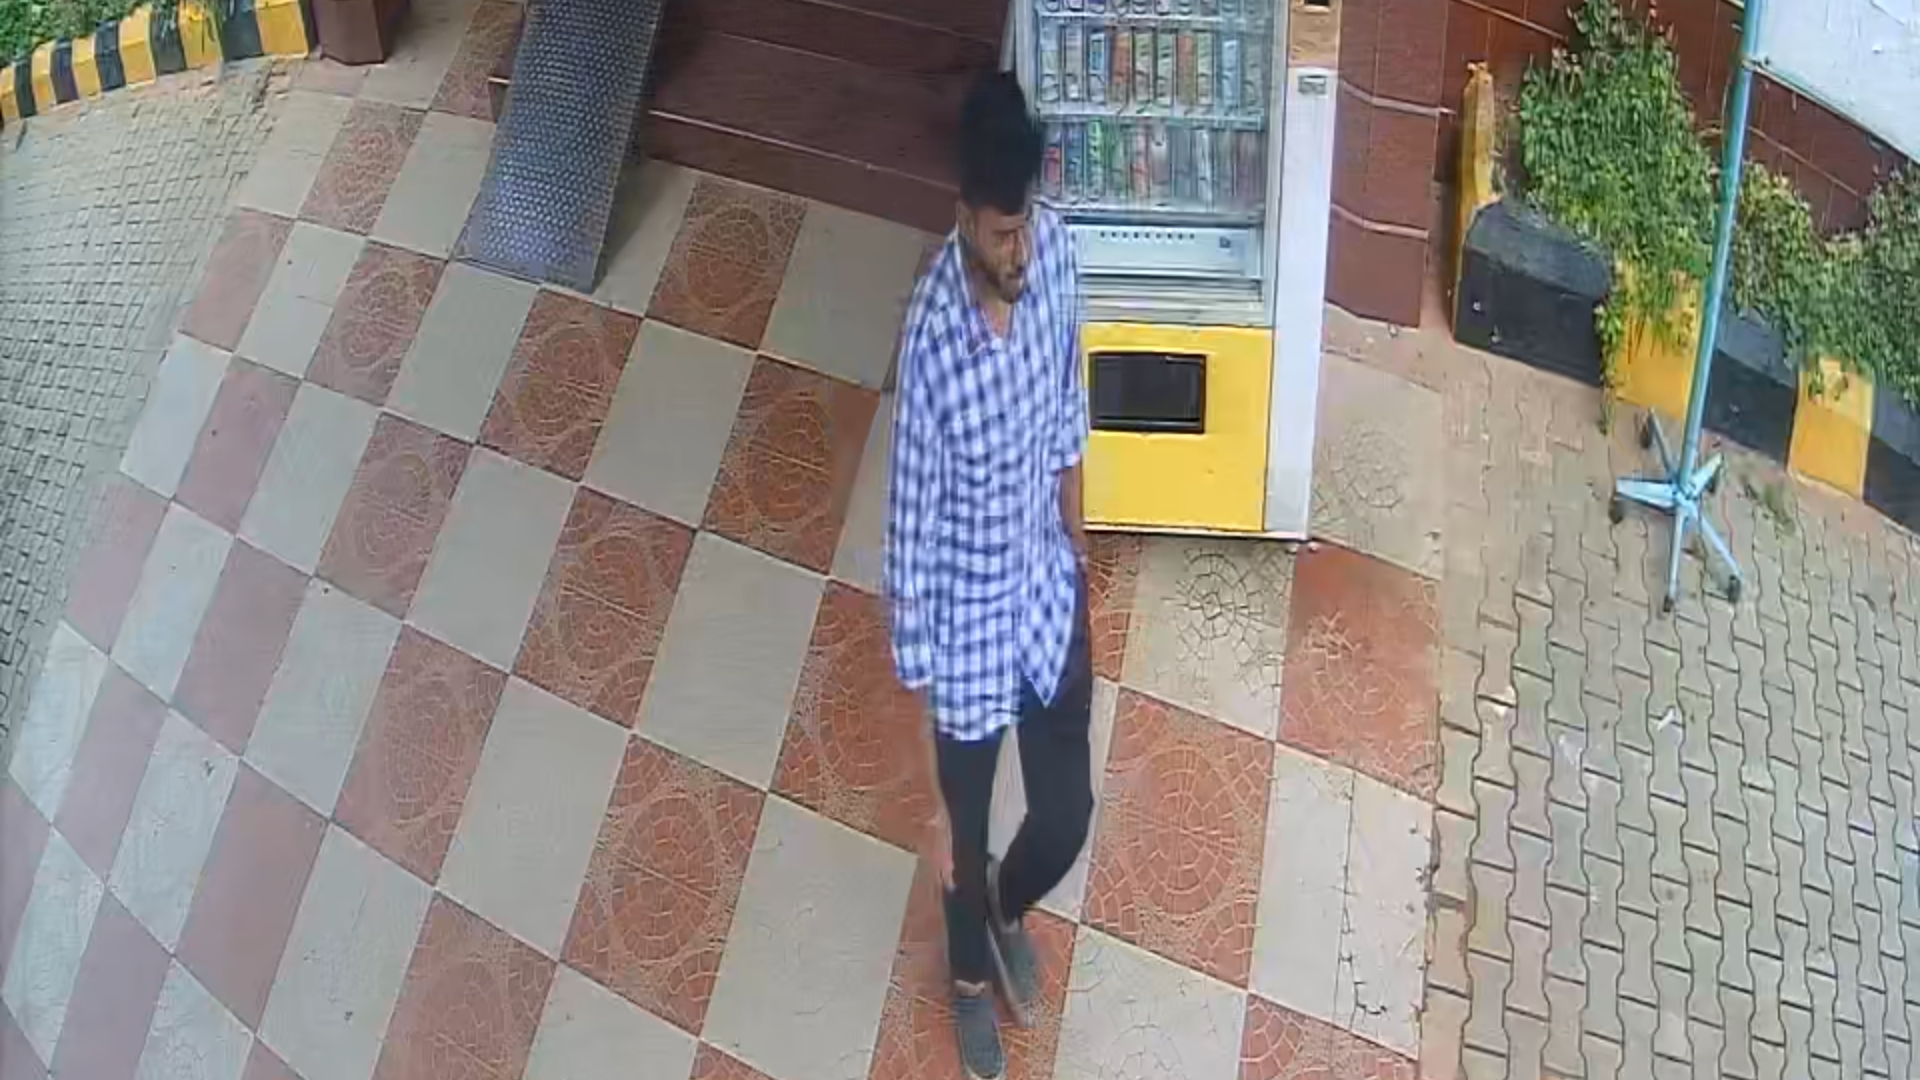intruder: (884, 57, 1147, 1080)
